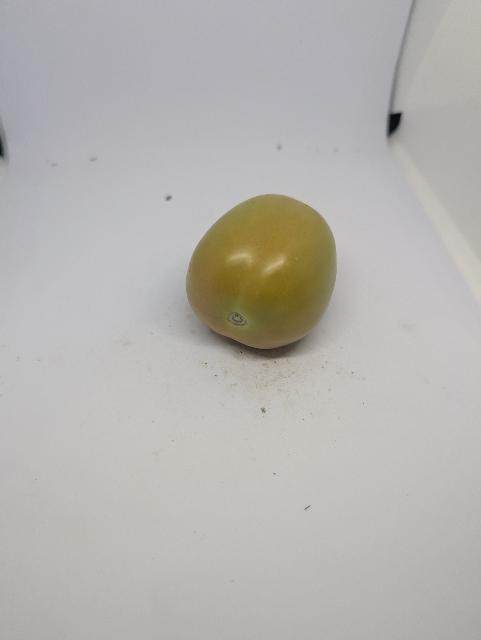breaker: (186, 195, 337, 349)
